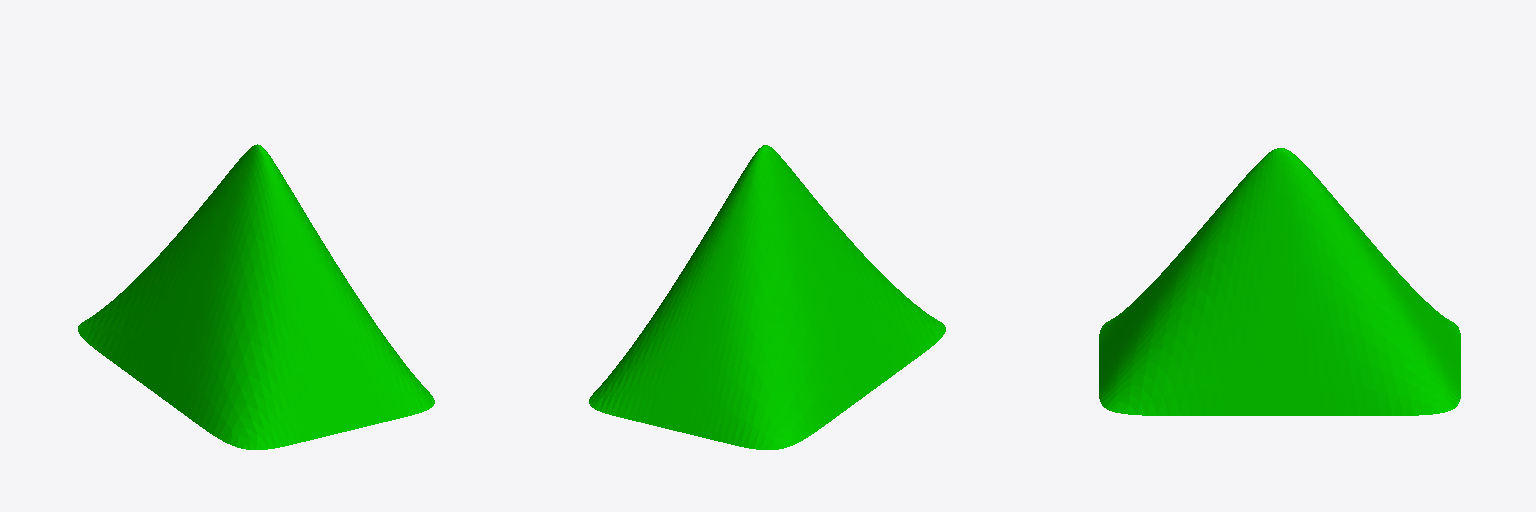
File: yama.obj
3 renders of one model, left to right at view 1: azimuth 30°, elevation 25°; view 2: azimuth 150°, elevation 25°; view 3: azimuth 270°, elevation 25°, orthographic.
Visible parts, largest first — view 1: 平面; view 2: 平面; view 3: 平面.
Part boxes in pixels (left/top/right/bottom): 平面: left=78, top=144, right=434, bottom=449; 平面: left=589, top=145, right=945, bottom=449; 平面: left=1099, top=148, right=1460, bottom=415.
Size of the model in its own units: 10 by 10 by 15.